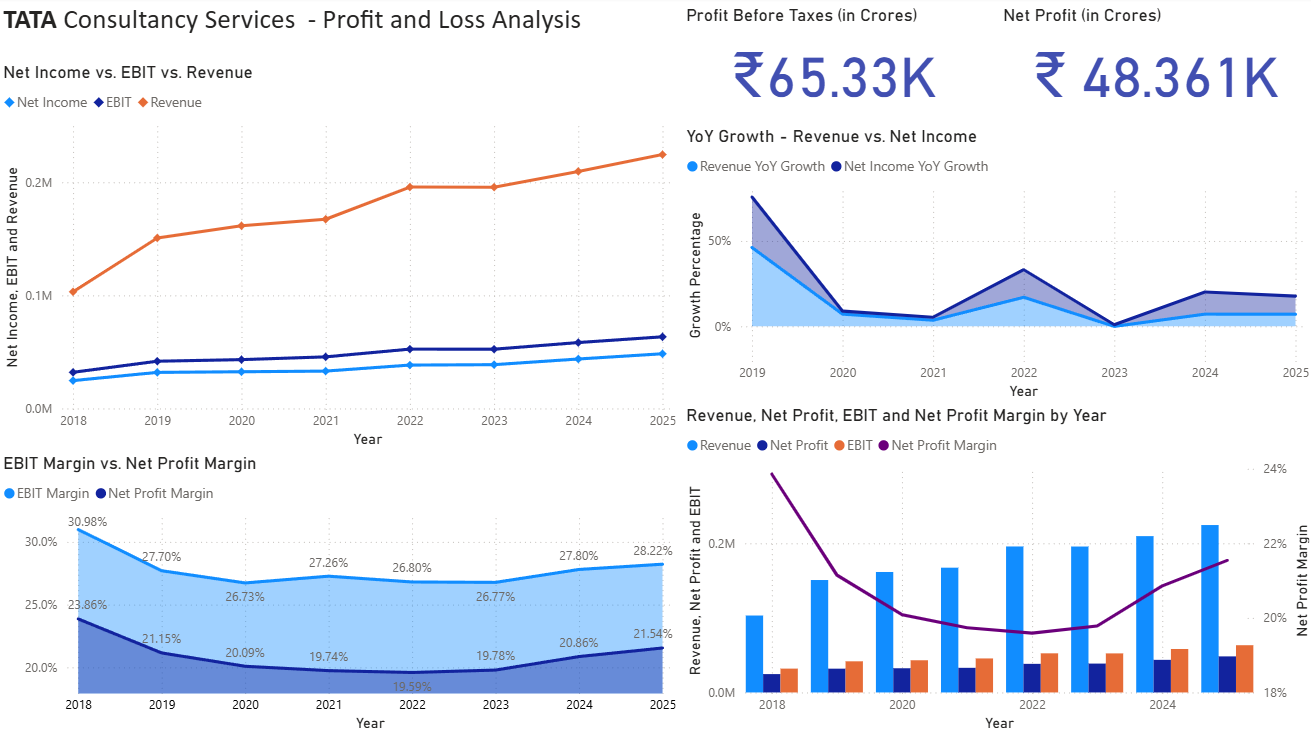

The page's visual inventory and layout, read from the dashboard file:
{"tool":"powerbi","page":{"name":"P&L Analysis","canvas":[1280,720],"ordinal":2},"visuals":[{"type":"lineChart","title":"Net Income vs. EBIT vs. Revenue","fields":{"Category":["P&L.Year"],"Y":["Sum(P&L.Net Income)","Sum(P&L.EBIT)","Sum(P&L.Revenue)"]},"box":[0,63.2,664.3,380.3],"z":0},{"type":"lineChart","title":"EBIT Margin vs. Net Profit Margin","fields":{"Y":["Sum(P&L.EBITMargin)","Sum(P&L.NetProfitMargin)"],"Category":["P&L.Year"]},"box":[0,443.5,664.3,276.2],"z":1000},{"type":"textbox","box":[0,0,706.1,49.6],"z":2000},{"type":"lineClusteredColumnComboChart","fields":{"Category":["P&L.Year"],"Y":["Sum(P&L.Revenue)","Sum(P&L.Net Income)","Sum(P&L.EBIT)"],"Y2":["Sum(P&L.NetProfitMargin)"]},"box":[664.3,396.8,615.7,322.9],"z":3000},{"type":"stackedAreaChart","title":"YoY Growth - Revenue vs. Net Income","fields":{"Category":["P&L.Year"],"Y":["Sum(P&L.Revenue YoY Growth)","Sum(P&L.Net Income YoY Growth)"]},"box":[664.3,125.5,615.7,271.4],"z":4000},{"type":"kpi","title":"Profit Before Taxes (in Crores)","fields":{"TrendLine":["P&L.Year"],"Indicator":["Sum(P&L.Profit Before Tax)"]},"box":[664.3,7.8,297.6,109.9],"z":5000},{"type":"kpi","title":"Net Profit (in Crores)","fields":{"Indicator":["P&L.Latest Year Net Profit"],"TrendLine":["P&L.Year"]},"box":[972.6,7.8,307.4,109.9],"z":6000}]}

Visuals, with their boxes in screenshot pixels (x1, y1, x2, y2), scaled from the page's 1280x720 canvas onto the 1311x735 screenshot:
"Net Income vs. EBIT vs. Revenue" lineChart: crop(0, 65, 680, 453)
"EBIT Margin vs. Net Profit Margin" lineChart: crop(0, 453, 680, 734)
textbox: crop(0, 0, 723, 51)
lineClusteredColumnComboChart - P&L.Year x Sum(P&L.Revenue): crop(680, 405, 1310, 734)
"YoY Growth - Revenue vs. Net Income" stackedAreaChart: crop(680, 128, 1310, 405)
"Profit Before Taxes (in Crores)" kpi: crop(680, 8, 985, 120)
"Net Profit (in Crores)" kpi: crop(996, 8, 1310, 120)
